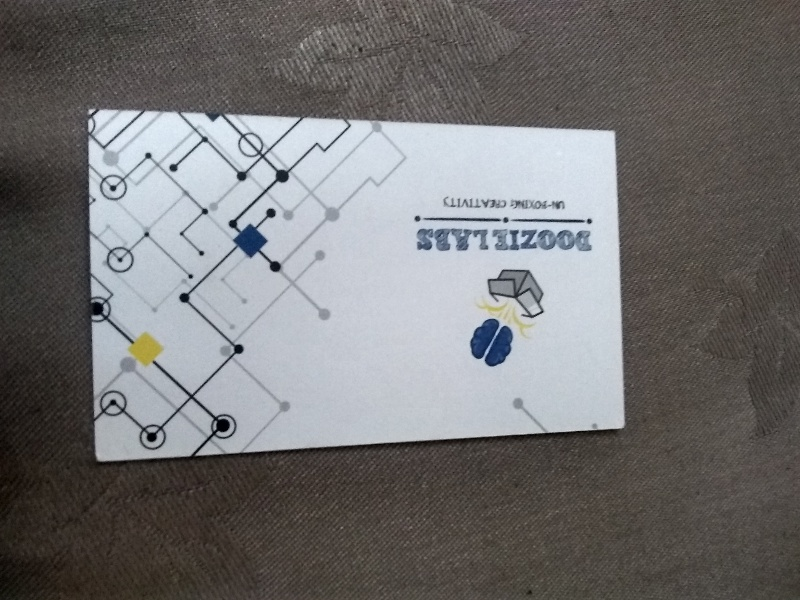back: (80, 104, 632, 468)
